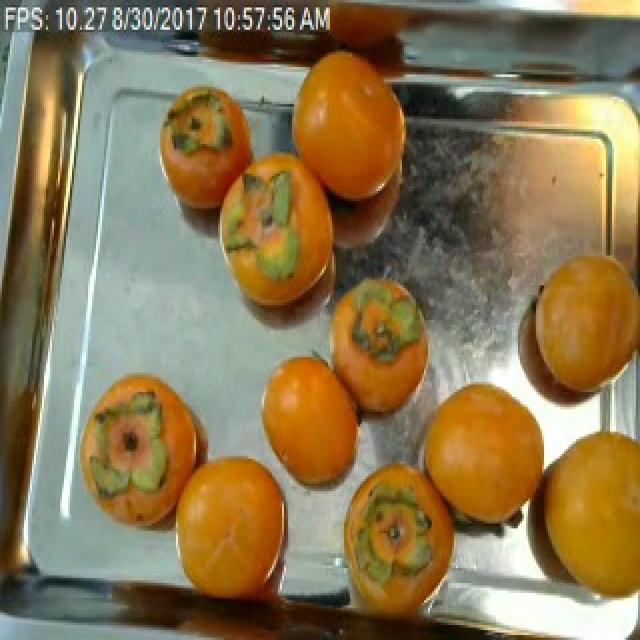Fruit: (398, 360, 560, 556), (274, 32, 420, 231), (328, 444, 476, 638), (510, 409, 640, 618), (502, 238, 638, 437), (158, 432, 292, 622), (244, 335, 382, 511), (78, 360, 216, 516), (148, 70, 266, 248), (546, 0, 640, 32)
